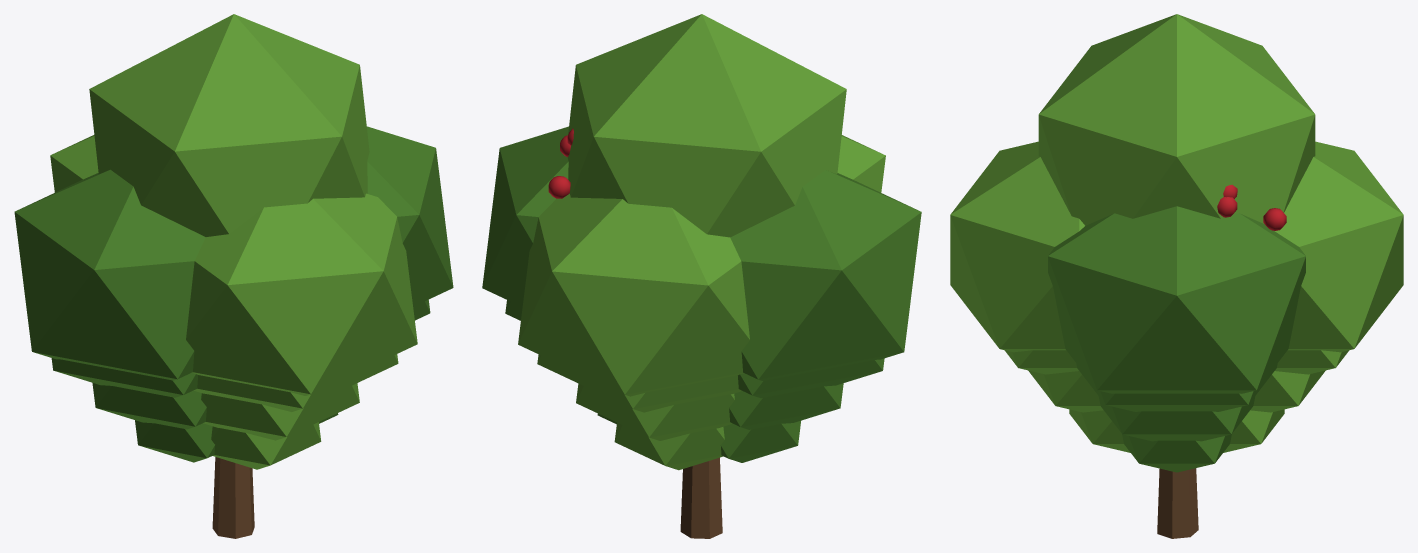
Rendered from Crop_Fruit_Pomegranate.fbx.
3 renders of one model, left to right at view 1: azimuth 30°, elevation 25°; view 2: azimuth 150°, elevation 25°; view 3: azimuth 270°, elevation 25°, orthographic.
Visible parts, largest first — view 1: Crop_Fruit_Pomegranate__S4, Crop_Fruit_Pomegranate__S2, Crop_Fruit_Pomegranate__S3, Crop_Fruit_Pomegranate__S1; view 2: Crop_Fruit_Pomegranate__S4, Crop_Fruit_Pomegranate__S2, Crop_Fruit_Pomegranate__S3, Crop_Fruit_Pomegranate__S1; view 3: Crop_Fruit_Pomegranate__S4, Crop_Fruit_Pomegranate__S2, Crop_Fruit_Pomegranate__S3, Crop_Fruit_Pomegranate__S1.
Boxes of the visible parts, bbox=[...] form: Crop_Fruit_Pomegranate__S4: bbox=[14, 14, 453, 538]; Crop_Fruit_Pomegranate__S2: bbox=[92, 383, 359, 440]; Crop_Fruit_Pomegranate__S3: bbox=[51, 299, 430, 411]; Crop_Fruit_Pomegranate__S1: bbox=[135, 413, 338, 469]; Crop_Fruit_Pomegranate__S4: bbox=[482, 14, 921, 538]; Crop_Fruit_Pomegranate__S2: bbox=[576, 383, 843, 440]; Crop_Fruit_Pomegranate__S3: bbox=[505, 300, 884, 412]; Crop_Fruit_Pomegranate__S1: bbox=[597, 413, 800, 470]; Crop_Fruit_Pomegranate__S4: bbox=[950, 14, 1403, 538]; Crop_Fruit_Pomegranate__S2: bbox=[1028, 370, 1325, 441]; Crop_Fruit_Pomegranate__S3: bbox=[1005, 350, 1348, 411]; Crop_Fruit_Pomegranate__S1: bbox=[1069, 409, 1284, 472].
Bounding box in the file's own units: 0.6887 × 0.84 × 0.6691.
